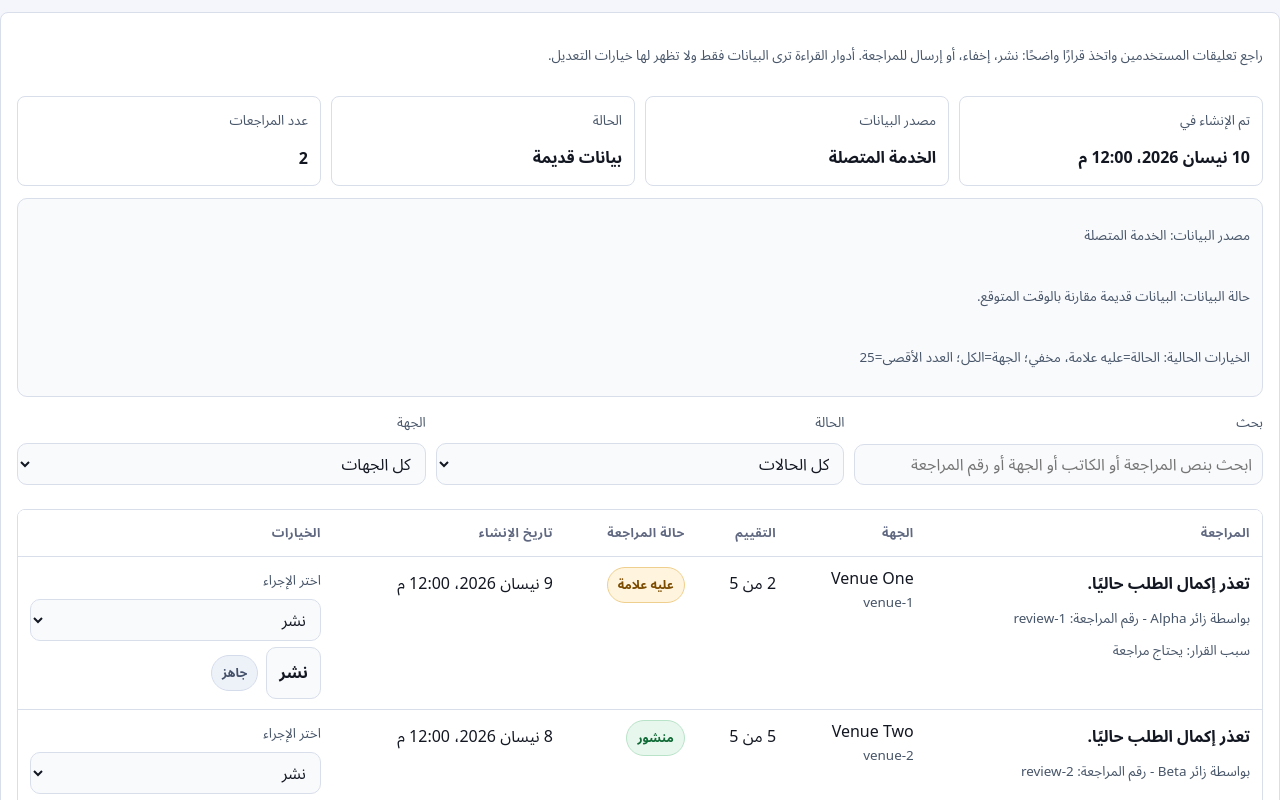
Scenario: review moderation shell › shows governed actions for content admin and surfaces unavailable transport
Select "إخفاء" in the dropdown with test id "review-action-select-review-1" at (175, 620), box [30,598,321,640]
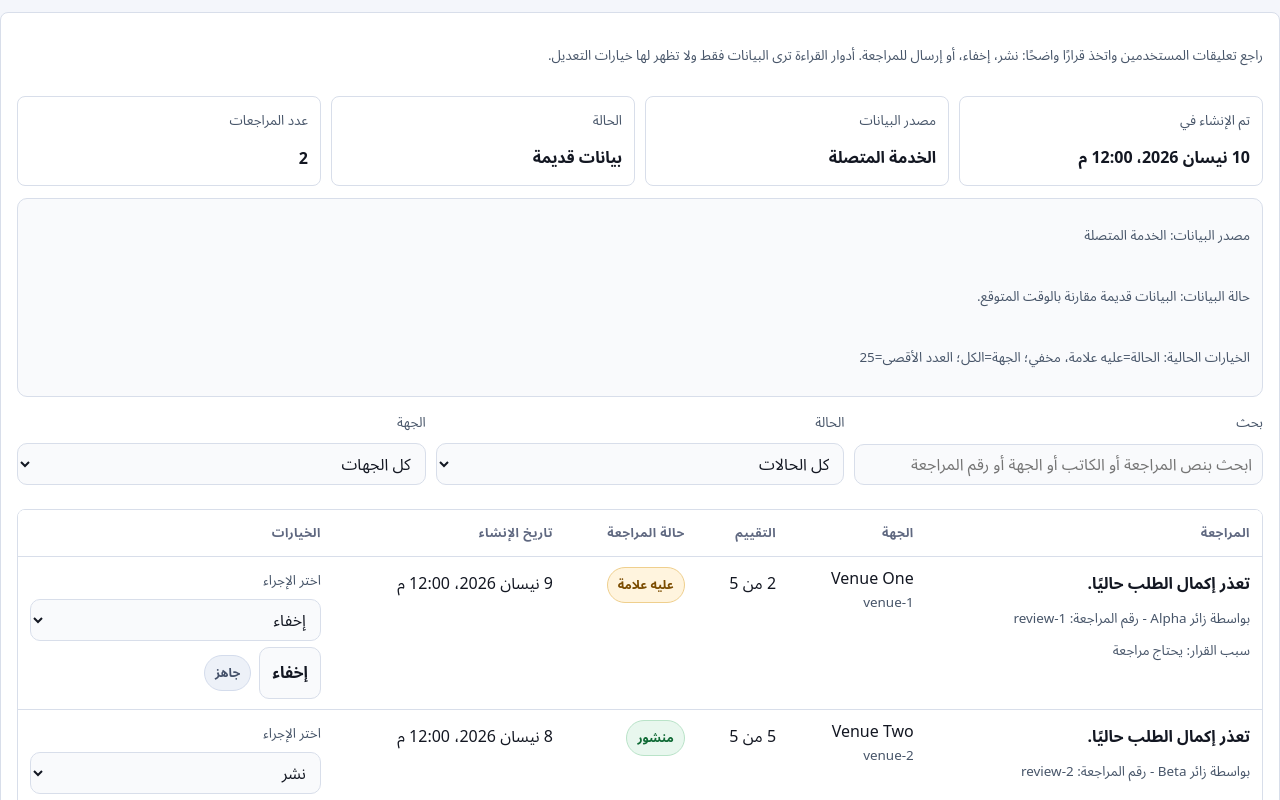
Click the button with test id "review-action-run-review-1" at (290, 672), box [259,646,321,698]
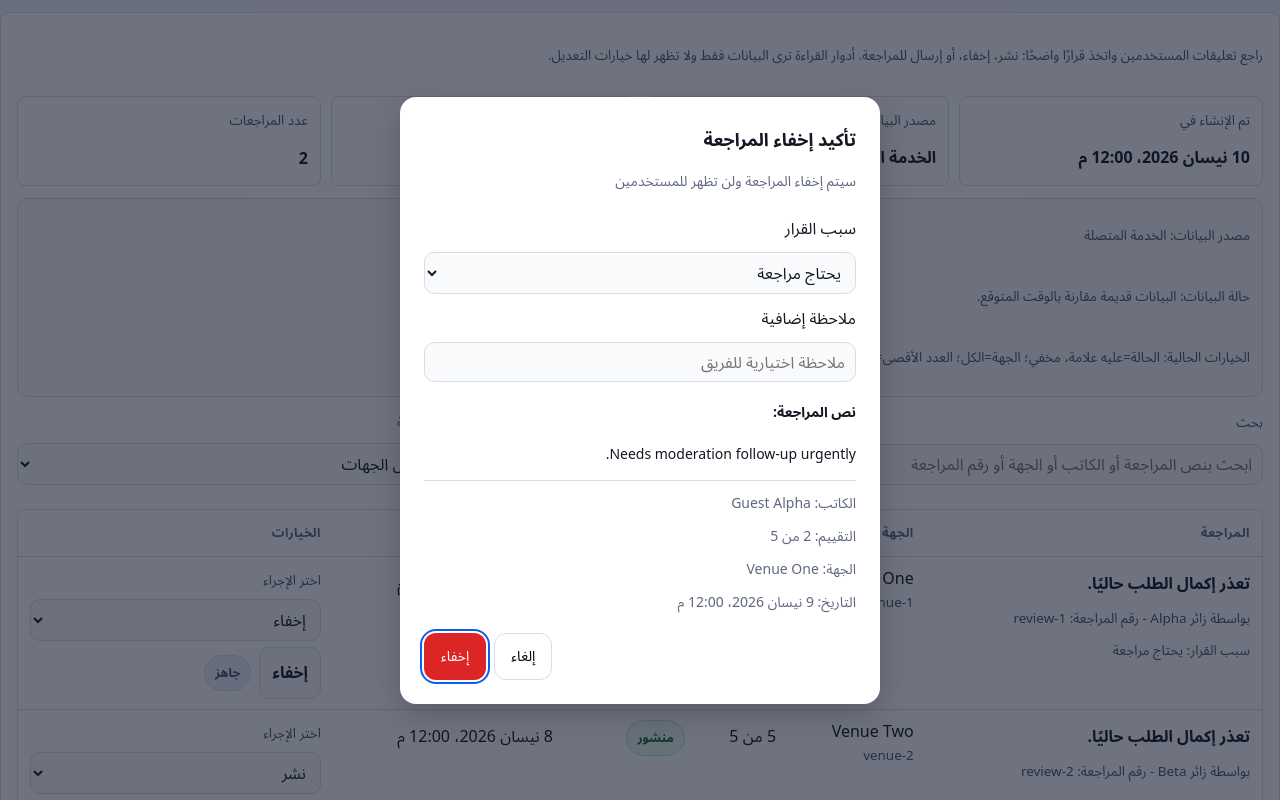
expect the dialog is shown: met, box [400,96,880,704]
// Click confirm button in dialog (إخفاء for hide action) - last button is the confirm button
Click the button "إخفاء" at (455, 656), box [424,632,486,680]
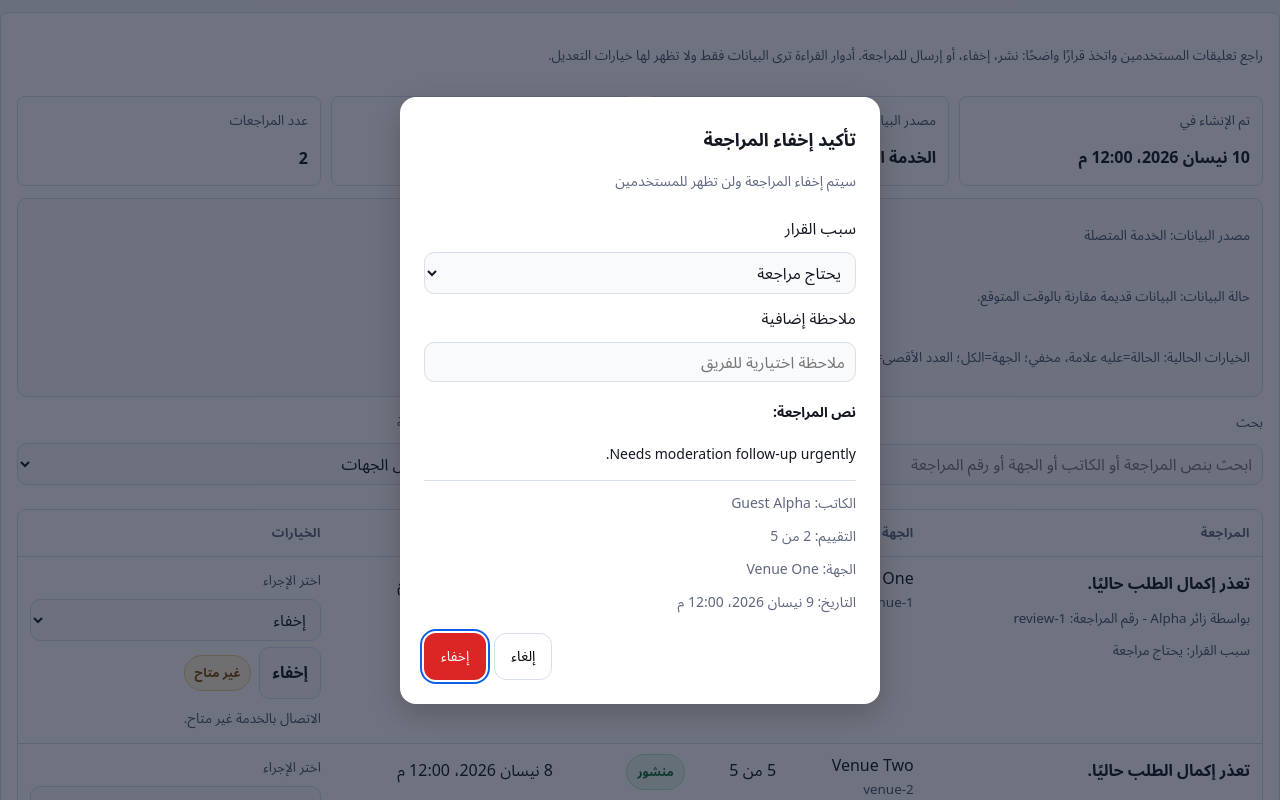
expect the text "الاتصال بالخدمة غير متاح." is shown: met, box [184,708,321,726]
